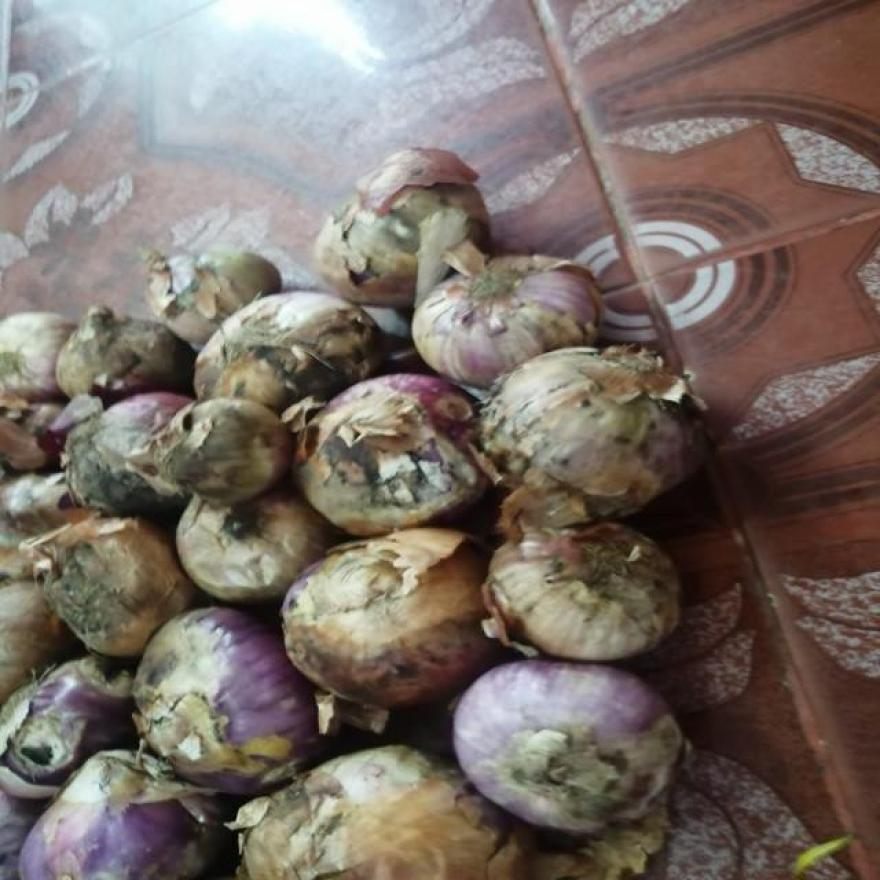Rotten: (510, 723, 666, 817), (325, 439, 471, 515), (45, 560, 130, 650), (62, 441, 129, 497)
